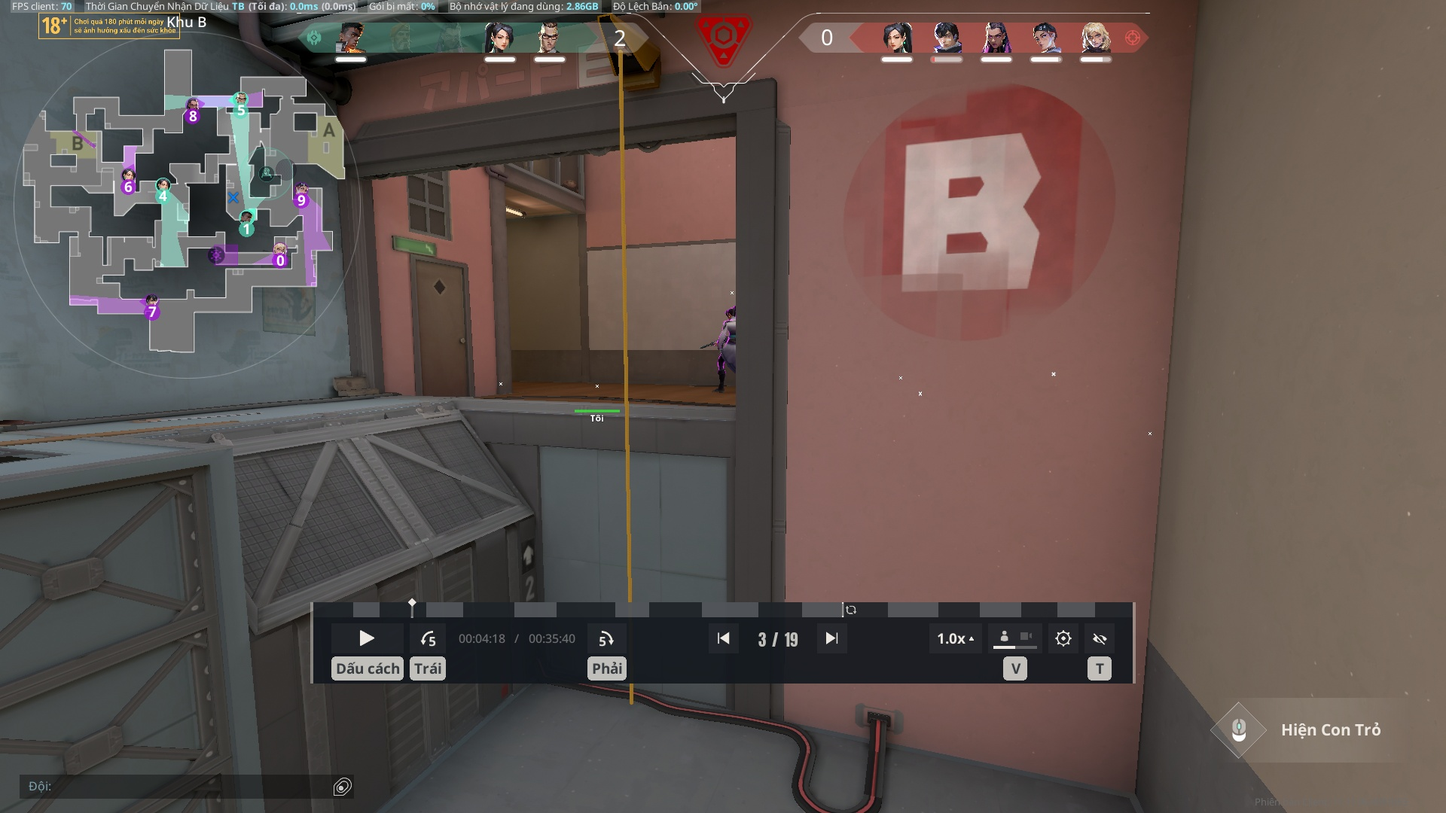body: (721, 318, 737, 341)
head: (725, 308, 737, 318)
